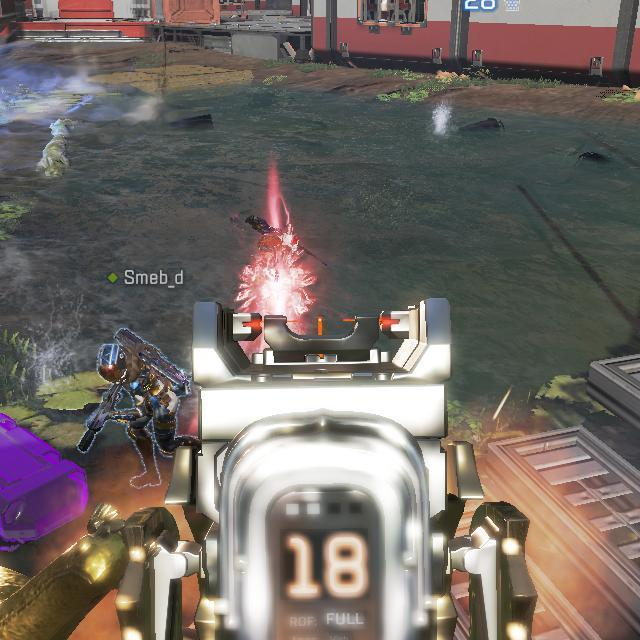avatar: (95, 335, 183, 492)
object: (232, 247, 317, 313)
